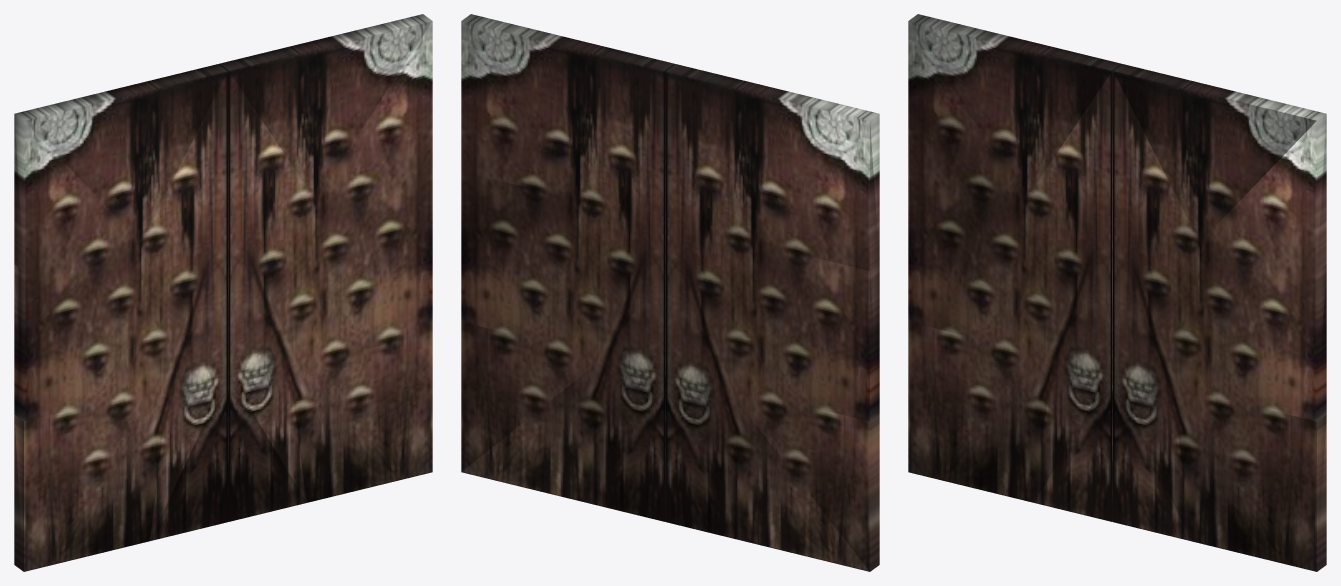
3 views of the same model, side by side, from view 1: azimuth 30°, elevation 25°; view 2: azimuth 150°, elevation 25°; view 3: azimuth 330°, elevation 25° (orthographic).
Parts seen in each view (by area): view 1: Object102, Object106, Pdoor05, Pdoor502, Object104, Object100, Object105, Object101, Object103, Object107; view 2: Object102, Object106, Pdoor05, Pdoor502, Object104, Object100, Object105, Object101, Object103, Object107; view 3: Object106, Object102, Pdoor502, Pdoor05, Object100, Object104, Object101, Object105, Object107, Object103.
Boxes of the visible parts, x1,y1,x2,y2 form: Object102: (14, 80, 158, 421); Object106: (285, 14, 432, 336); Pdoor05: (24, 243, 168, 571); Pdoor502: (288, 200, 432, 502); Object104: (219, 47, 315, 356); Object100: (141, 64, 227, 385); Object105: (228, 221, 306, 521); Object101: (150, 222, 227, 540); Object103: (14, 406, 86, 571); Object107: (370, 322, 432, 471); Object102: (732, 81, 879, 421); Object106: (461, 14, 605, 335); Pdoor05: (726, 243, 869, 571); Pdoor502: (461, 200, 604, 501); Object104: (578, 47, 674, 356); Object100: (666, 64, 752, 385); Object105: (584, 221, 665, 521); Object101: (666, 222, 746, 541); Object103: (813, 408, 879, 571); Object107: (461, 322, 517, 471); Object106: (1182, 80, 1326, 421); Object102: (908, 14, 1055, 336); Pdoor502: (1172, 243, 1316, 571); Pdoor05: (908, 200, 1052, 502); Object100: (1025, 47, 1121, 356); Object104: (1113, 64, 1199, 385); Object101: (1034, 221, 1112, 521); Object105: (1113, 222, 1190, 540); Object107: (1254, 406, 1326, 571); Object103: (908, 322, 970, 471).
Bounding box in the file's own units: 103 × 108 × 4.17.
1 material, 1 textured.
